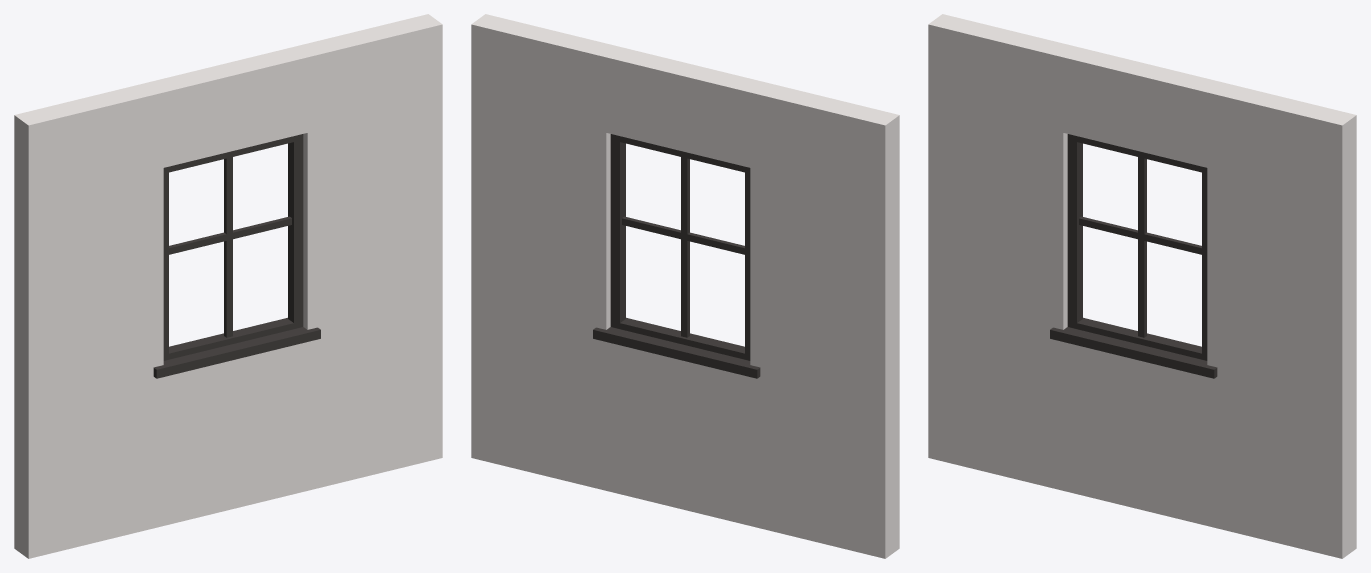
File: Wall_15.fbx
3 views of the same model, side by side, from view 1: azimuth 30°, elevation 25°; view 2: azimuth 150°, elevation 25°; view 3: azimuth 330°, elevation 25° (orthographic).
Parts seen in each view (by area): view 1: Wall_15; view 2: Wall_15; view 3: Wall_15.
Boxes of the visible parts, x1=… form: Wall_15: x1=14, y1=14, x2=442, y2=558; Wall_15: x1=471, y1=14, x2=899, y2=558; Wall_15: x1=928, y1=14, x2=1356, y2=558.
Size of the model in its own units: 259 by 259 by 22.34.
